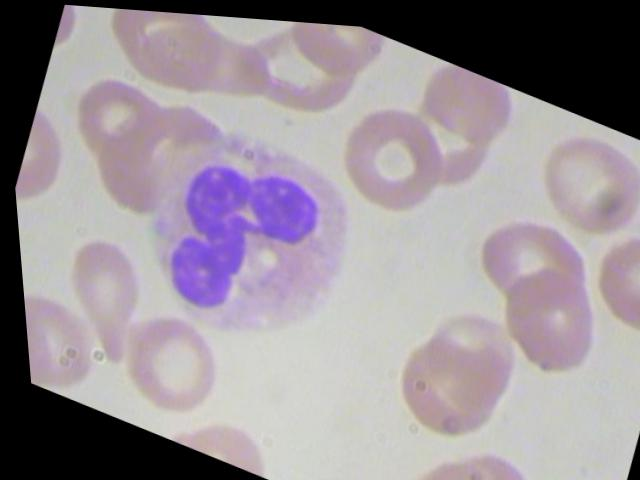Red Blood Cells: (308, 78, 464, 226), (463, 235, 619, 383), (367, 309, 523, 457), (509, 94, 639, 244), (33, 223, 158, 379), (92, 295, 235, 426), (389, 42, 529, 156), (88, 5, 242, 106), (557, 200, 639, 337), (359, 416, 514, 479)
White Blood Cells: (101, 97, 391, 379)
